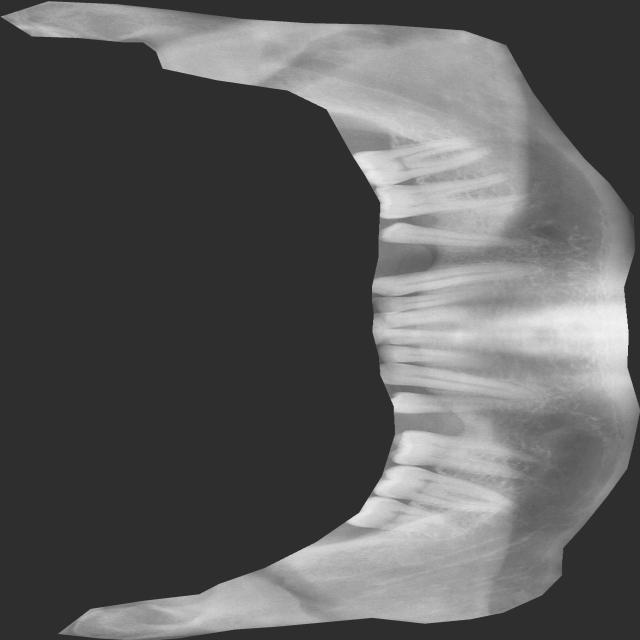mandibula: (1, 0, 640, 640)
